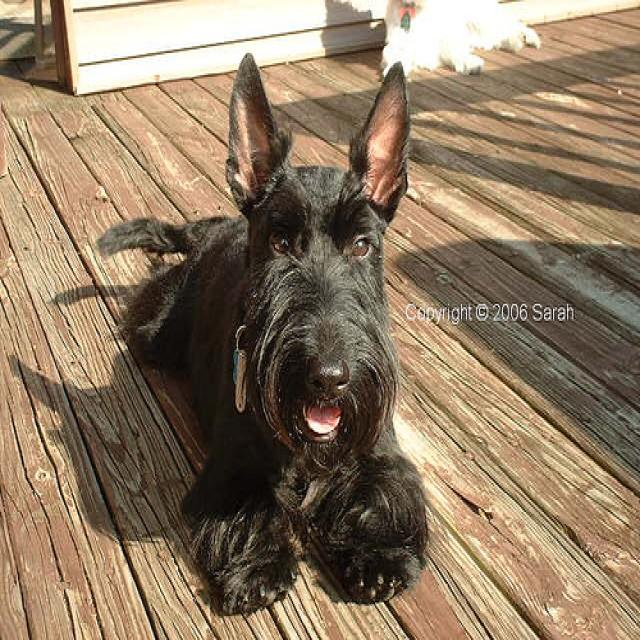dog-scottish_terrier: (93, 41, 428, 618)
